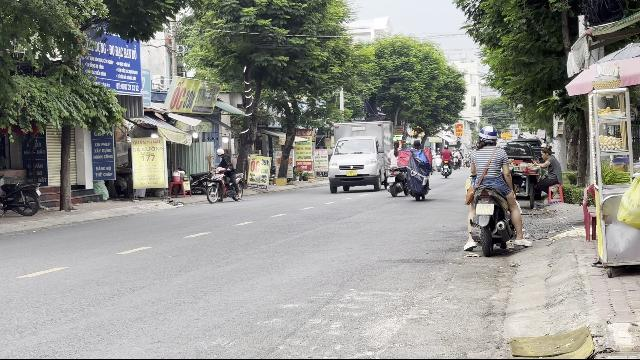helmet: (477, 126, 498, 146)
licenseplate: (476, 204, 494, 214)
motorcyclist: (461, 124, 525, 256)
